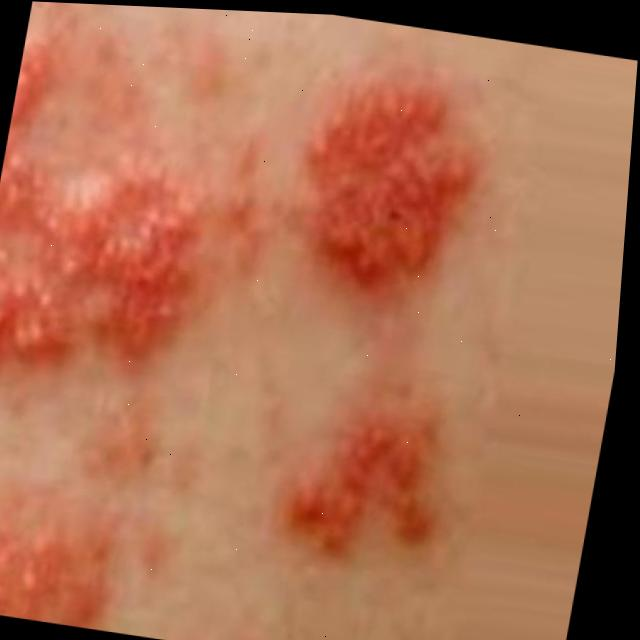Shingles: (0, 48, 219, 395), (304, 74, 466, 269), (275, 398, 425, 580), (0, 514, 118, 630)
